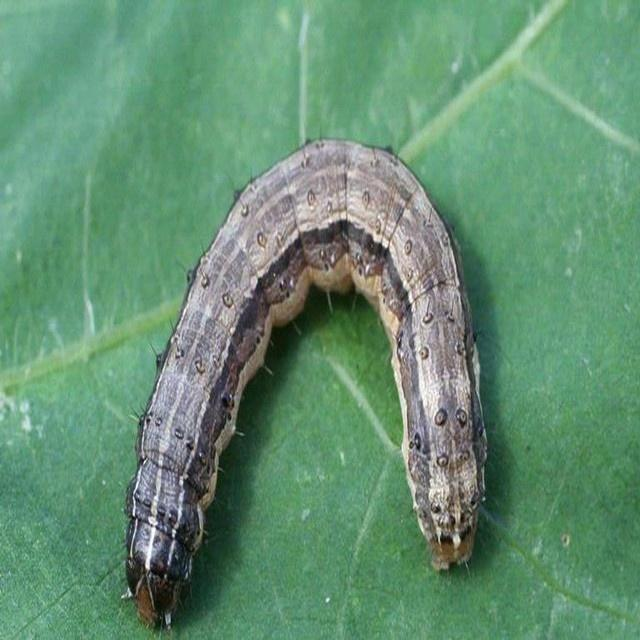gusano_cogollero: (112, 129, 494, 640)
